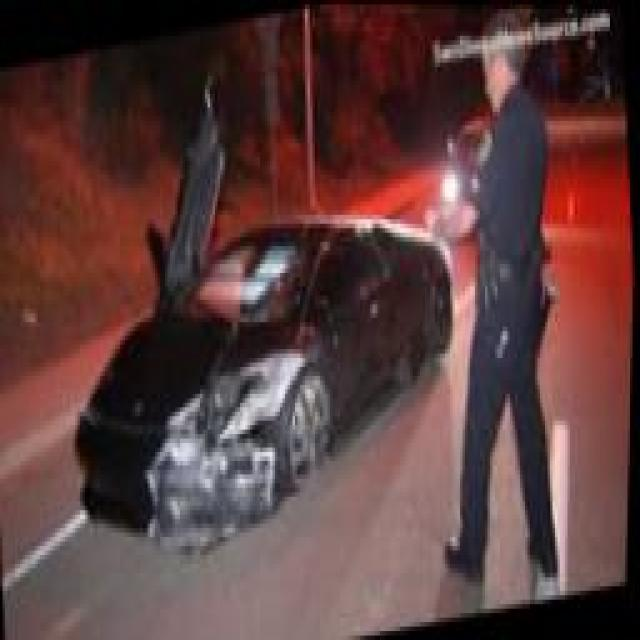Bonnet: (98, 311, 261, 443)
Bumper: (123, 427, 288, 538)
Light: (209, 353, 291, 429)
